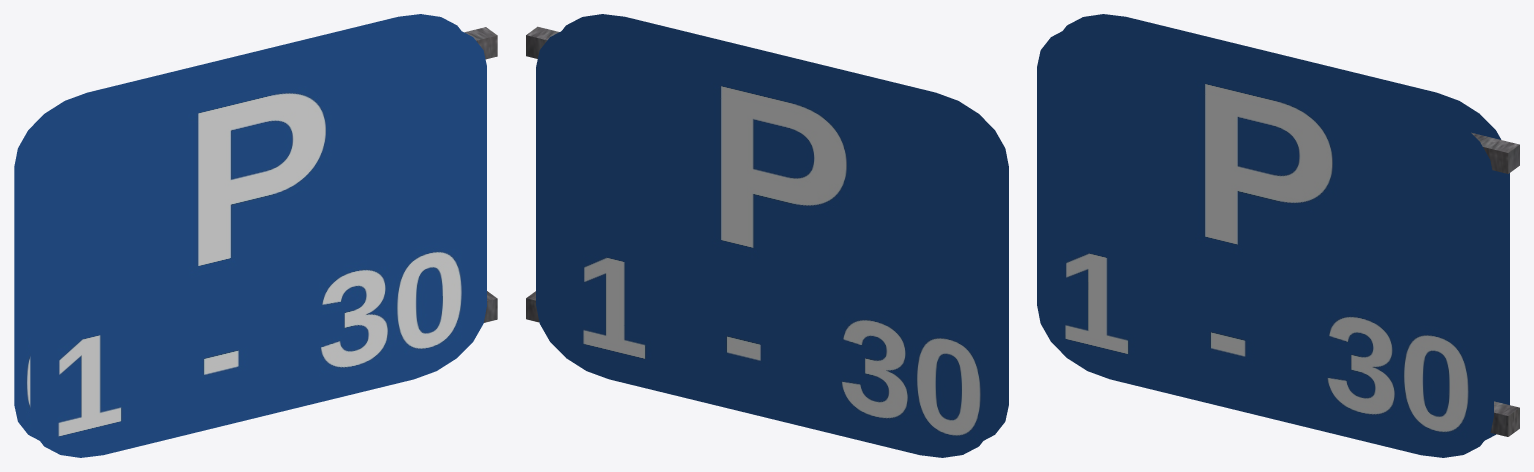
The picture shows the model from 3 angles, left to right: view 1: azimuth 30°, elevation 25°; view 2: azimuth 150°, elevation 25°; view 3: azimuth 330°, elevation 25°; orthographic projection.
Visible parts, largest first — view 1: Cube; view 2: Cube; view 3: Cube.
Boxes of the visible parts, x1,y1,x2,y2 form: Cube: [14, 14, 497, 457]; Cube: [526, 14, 1008, 457]; Cube: [1037, 14, 1519, 457].
Size of the model in its own units: 0.9334 by 0.667 by 0.055.
Materials: 2 (2 with a texture image).
